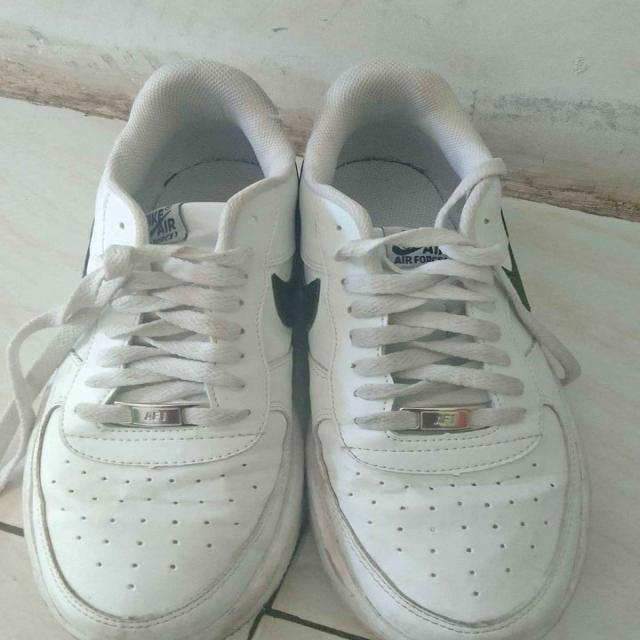nike fake air force: (298, 62, 594, 640), (17, 60, 300, 640)
